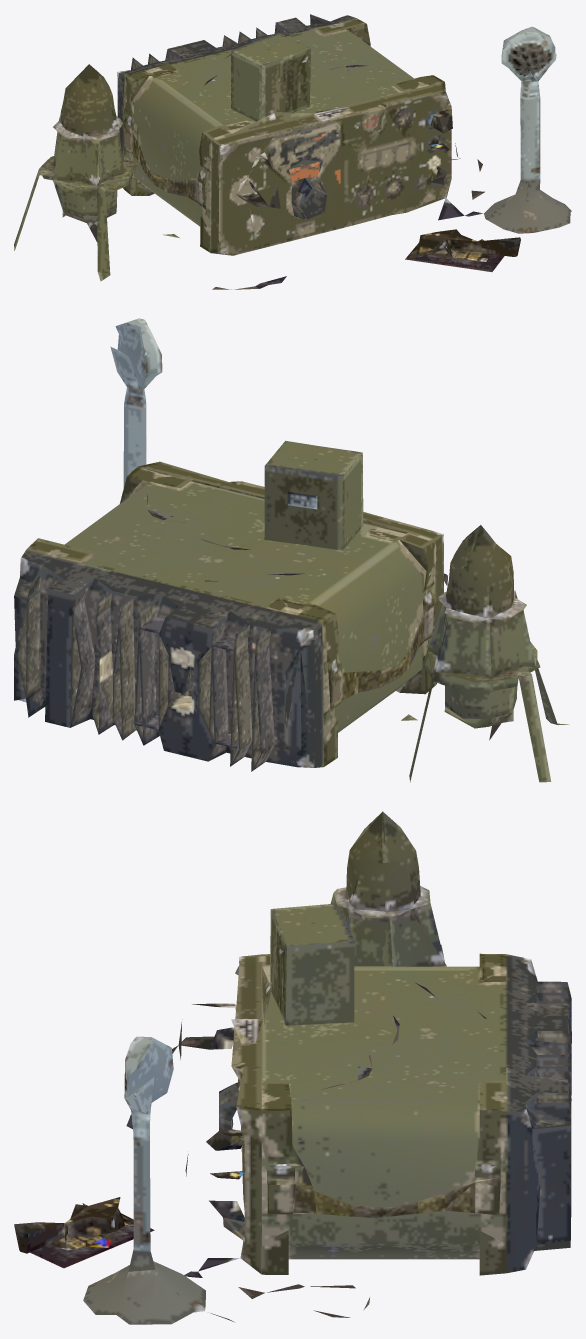
File: vintage_radio_transceiver.glb
3 views of the same model, one above another, from view 1: azimuth 30°, elevation 25°; view 2: azimuth 150°, elevation 25°; view 3: azimuth 270°, elevation 25° (orthographic). The views are drawn at different scales.
Visible parts, largest first — view 1: mesh; view 2: mesh; view 3: mesh.
Boxes of the visible parts, <box> form: mesh: <box>14,14,571,289</box>; mesh: <box>14,318,569,782</box>; mesh: <box>14,811,571,1324</box>.
Size of the model in its own units: 1.09 by 0.4344 by 0.8252.
1 material, 1 textured.
